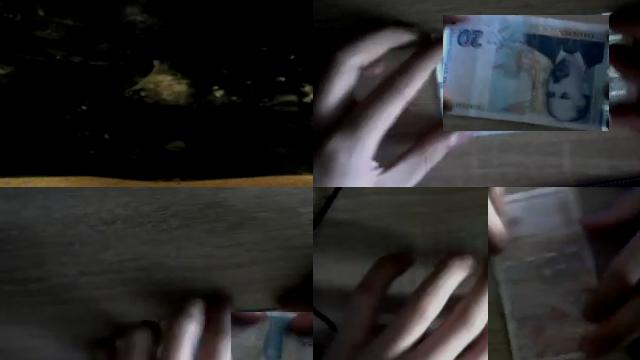20leva: (443, 15, 609, 131), (231, 312, 313, 360)
5leva: (488, 187, 640, 360)
